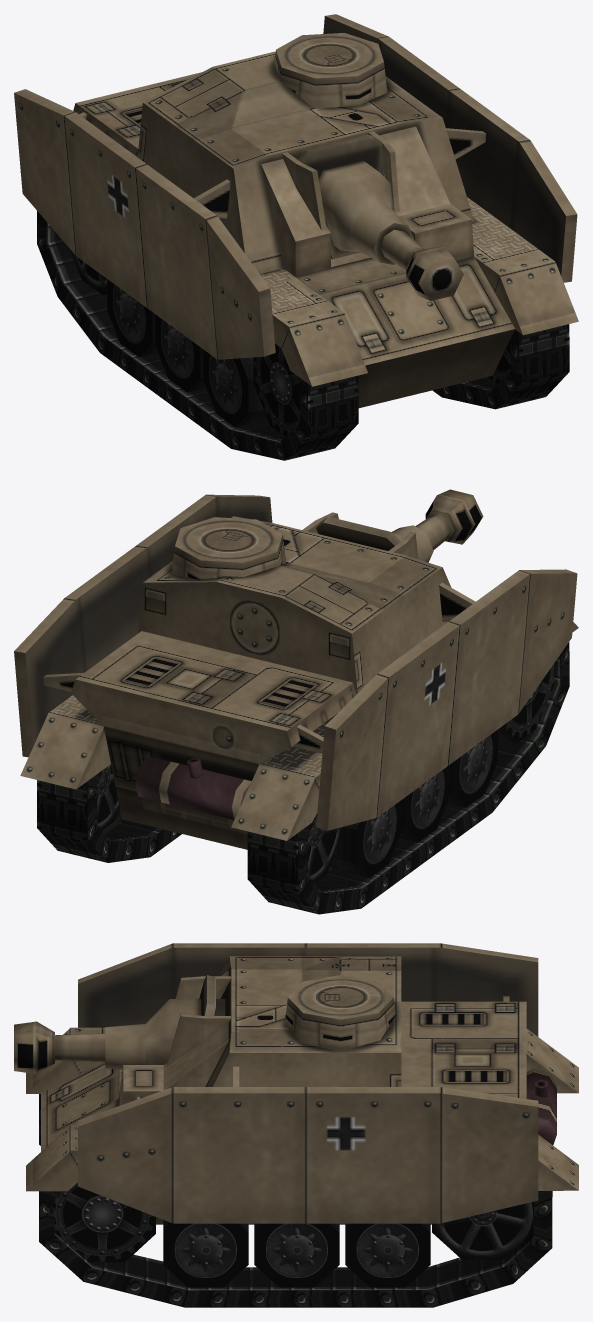
The model's file is StugIV_SD_Model_Track.FBX.
3 views of the same model, one above another, from view 1: azimuth 30°, elevation 25°; view 2: azimuth 150°, elevation 25°; view 3: azimuth 270°, elevation 25° (orthographic). The views are drawn at different scales.
Visible parts, largest first — view 1: Body, RightTrack, Cannon, LeftTrack; view 2: Body, RightTrack, LeftTrack, Cannon; view 3: Body, LeftTrack, Cannon.
Part boxes in pixels (bbox=[...]): Body: bbox=[14, 14, 578, 408]; RightTrack: bbox=[37, 211, 358, 460]; Cannon: bbox=[298, 134, 463, 300]; LeftTrack: bbox=[432, 324, 569, 409]; Body: bbox=[14, 494, 578, 849]; RightTrack: bbox=[247, 642, 569, 914]; LeftTrack: bbox=[37, 764, 181, 862]; Cannon: bbox=[316, 489, 483, 562]; Body: bbox=[26, 943, 578, 1224]; LeftTrack: bbox=[39, 1182, 552, 1307]; Cannon: bbox=[14, 975, 225, 1073].
Bounding box in the file's own units: 1.14 × 0.9679 × 1.81.
2 materials, 2 textured.
